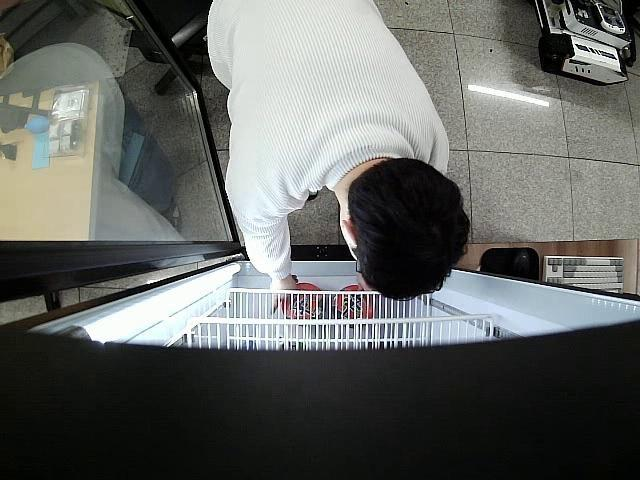01_ShinRamen_L: (278, 282, 326, 326), (330, 284, 376, 328)
